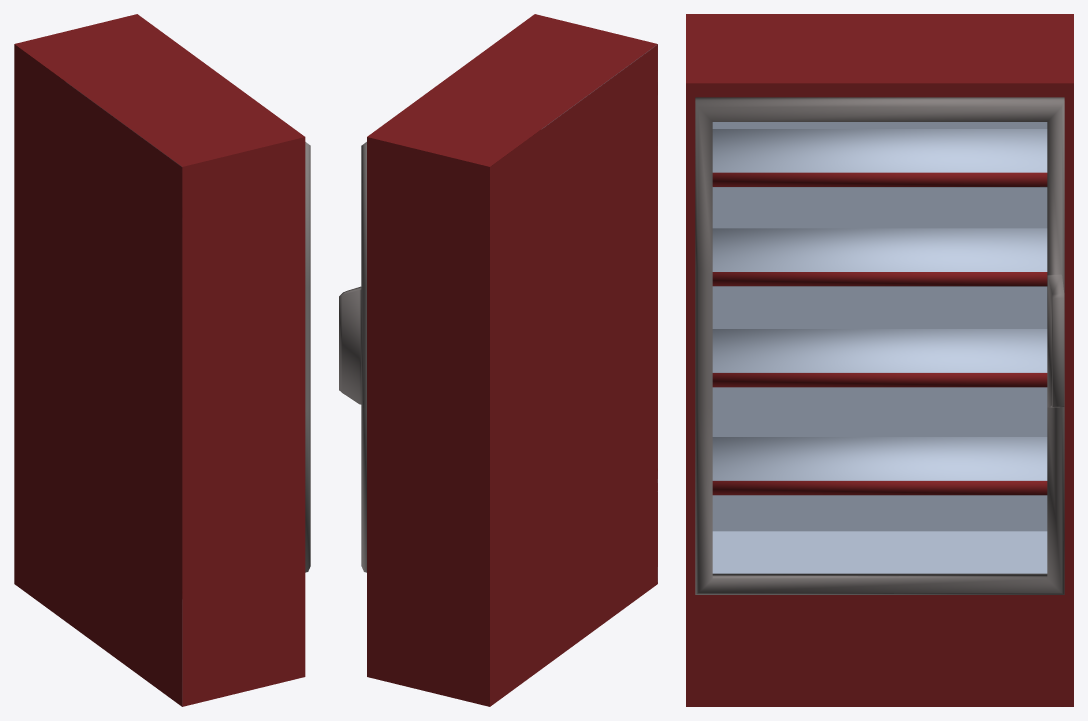
Rendered from heladera.glb.
The picture shows the model from 3 angles, left to right: view 1: azimuth 30°, elevation 25°; view 2: azimuth 150°, elevation 25°; view 3: azimuth 270°, elevation 25°; orthographic projection. The views are drawn at different scales.
Parts seen in each view (by area): view 1: Heladera, Marco; view 2: Heladera, Marco; view 3: Heladera, Estantes, Marco.
Part boxes in pixels (x1,y1,x2,y2): Heladera: (14,14,305,706); Marco: (305,142,310,572); Heladera: (367,14,657,706); Marco: (339,142,366,572); Heladera: (686,14,1073,706); Estantes: (712,129,1047,495); Marco: (695,97,1064,594).
Bounding box in the file's own units: 2.54 × 8.38 × 4.73.
4 materials, 3 textured.
